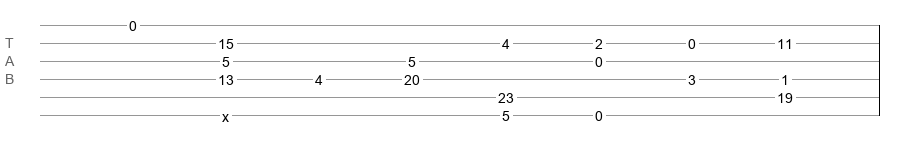0: (129, 18, 137, 28), (595, 54, 603, 64), (595, 108, 603, 118), (688, 36, 696, 46)
1: (781, 72, 789, 82)
11: (777, 36, 793, 46)
13: (218, 72, 234, 82)
15: (218, 36, 234, 46)
19: (777, 90, 793, 100)
2: (595, 36, 603, 46)
20: (404, 72, 420, 82)
23: (498, 90, 514, 100)
3: (688, 72, 696, 82)
4: (315, 72, 323, 82), (502, 36, 510, 46)
5: (222, 54, 230, 64), (408, 54, 416, 64), (502, 108, 510, 118)
x: (222, 109, 229, 117)
